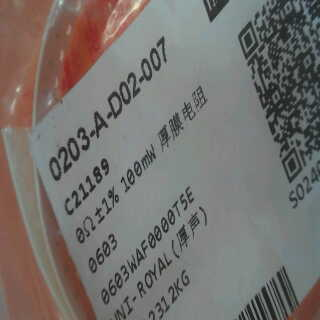0R: (71, 187, 125, 274)
